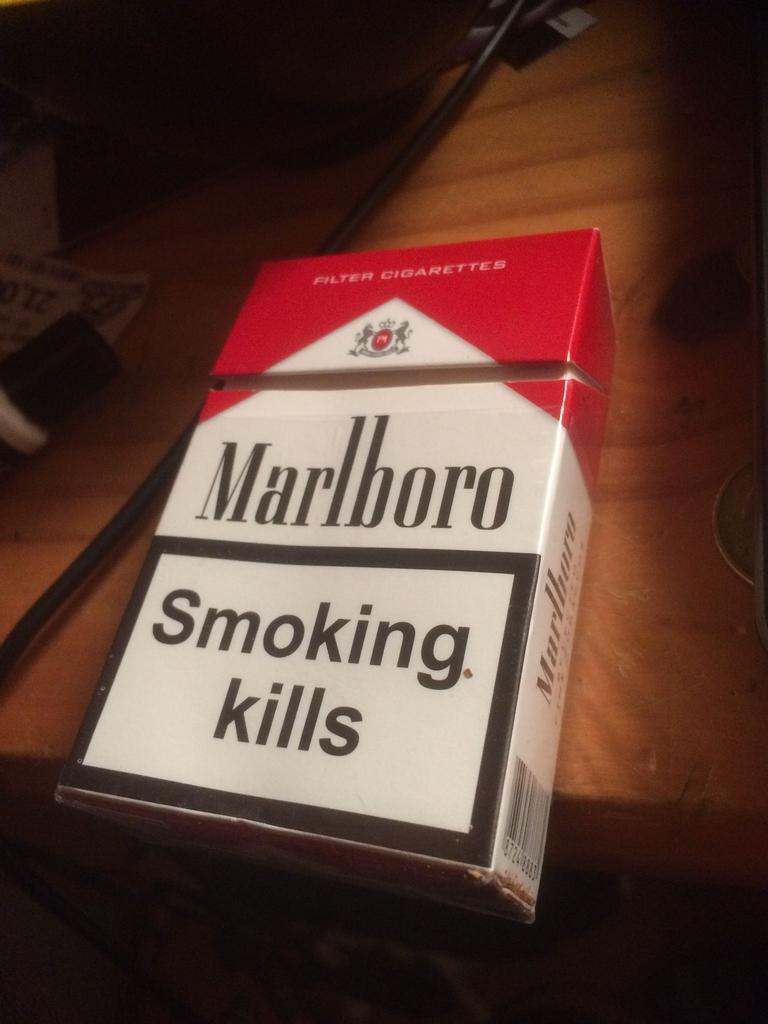marlboro_red: (185, 247, 556, 807)
